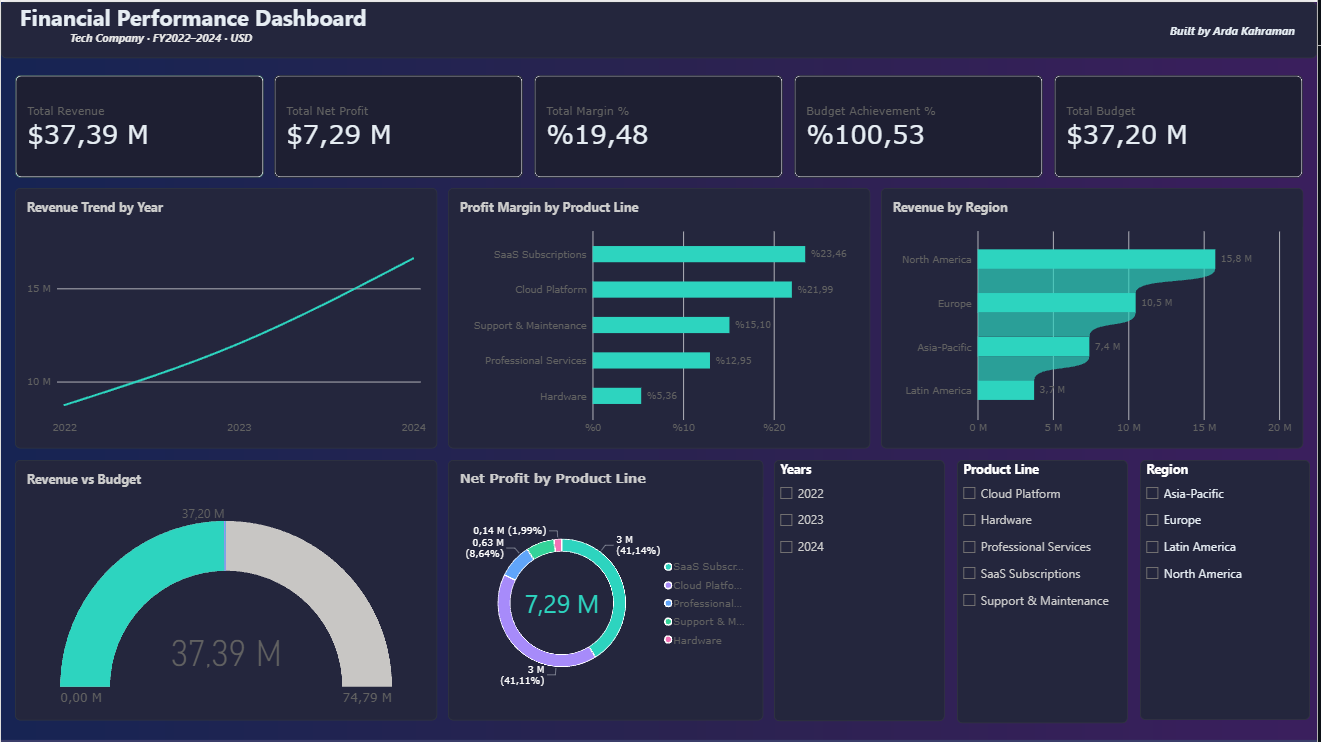

The dashboard page shown, as its layout file describes it:
{"tool":"powerbi","page":{"name":"1. sayfa","canvas":[1920,1080],"ordinal":0},"visuals":[{"type":"cardVisual","fields":{"Data":["tech_company_financials_TR.Total Revenue"]},"box":[20,106,363,150],"z":0},{"type":"cardVisual","fields":{"Data":["tech_company_financials_TR.Total Budget"]},"box":[1536,106,363,150],"z":1},{"type":"cardVisual","fields":{"Data":["tech_company_financials_TR.Total Margin %"]},"box":[778,106,363,150],"z":2},{"type":"cardVisual","fields":{"Data":["tech_company_financials_TR.Total Net Profit"]},"box":[399,106,363,150],"z":3},{"type":"cardVisual","fields":{"Data":["tech_company_financials_TR.Budget Achievement %"]},"box":[1157,106,363,150],"z":4},{"type":"shape","box":[0,0,1920,81.7],"z":5},{"type":"textbox","box":[27.7,0,729.5,81.7],"z":6},{"type":"textbox","box":[1705.5,30.6,214.5,51.1],"z":7},{"type":"textbox","box":[100.7,40.9,1819.3,40.9],"z":8},{"type":"lineChart","title":"Revenue Trend by Year","fields":{"Category":["tech_company_financials_TR.Date.Varyasyon.Tarih Hiyerarşisi.Yıl","tech_company_financials_TR.Date.Varyasyon.Tarih Hiyerarşisi.Ay"],"Y":["tech_company_financials_TR.Total Revenue"]},"box":[20,272,616,380],"z":9},{"type":"barChart","title":"Profit Margin by Product Line","fields":{"Category":["tech_company_financials_TR.Product Line"],"Y":["tech_company_financials_TR.Total Margin %"]},"box":[652,272,616,380],"z":10},{"type":"barChart","title":"Revenue by Region","fields":{"Category":["tech_company_financials_TR.Region"],"Y":["tech_company_financials_TR.Total Revenue"]},"box":[1284,272,616,380],"z":11},{"type":"gauge","title":"Revenue vs Budget","fields":{"TargetValue":["tech_company_financials_TR.Total Budget"],"Y":["tech_company_financials_TR.Total Revenue"]},"box":[20,668,616,380],"z":12},{"type":"donutChart","title":"Net Profit by Product Line","fields":{"Category":["tech_company_financials_TR.Product Line"],"Y":["tech_company_financials_TR.Total Net Profit"]},"box":[652,668,460,380],"z":13},{"type":"slicer","fields":{"Values":["tech_company_financials_TR.Years"]},"box":[1127.8,668.2,249.5,380.8],"z":14},{"type":"slicer","fields":{"Values":["tech_company_financials_TR.Product Line"]},"box":[1394.8,668.2,249.5,383.7],"z":15},{"type":"slicer","fields":{"Values":["tech_company_financials_TR.Region"]},"box":[1661.8,668.2,248,379.3],"z":16}]}

Visuals, with their boxes in screenshot pixels (x1, y1, x2, y2), scaled from the page's 1920x1080 canvas onto the 1321x742 screenshot:
cardVisual - tech_company_financials_TR.Total Revenue: <box>14,73,264,176</box>
cardVisual - tech_company_financials_TR.Total Budget: <box>1057,73,1307,176</box>
cardVisual - tech_company_financials_TR.Total Margin %: <box>535,73,785,176</box>
cardVisual - tech_company_financials_TR.Total Net Profit: <box>275,73,524,176</box>
cardVisual - tech_company_financials_TR.Budget Achievement %: <box>796,73,1046,176</box>
shape: <box>0,0,1320,56</box>
textbox: <box>19,0,521,56</box>
textbox: <box>1173,21,1320,56</box>
textbox: <box>69,28,1320,56</box>
"Revenue Trend by Year" lineChart: <box>14,187,438,448</box>
"Profit Margin by Product Line" barChart: <box>449,187,872,448</box>
"Revenue by Region" barChart: <box>883,187,1307,448</box>
"Revenue vs Budget" gauge: <box>14,459,438,720</box>
"Net Profit by Product Line" donutChart: <box>449,459,765,720</box>
slicer - tech_company_financials_TR.Years: <box>776,459,948,721</box>
slicer - tech_company_financials_TR.Product Line: <box>960,459,1131,723</box>
slicer - tech_company_financials_TR.Region: <box>1143,459,1314,720</box>
